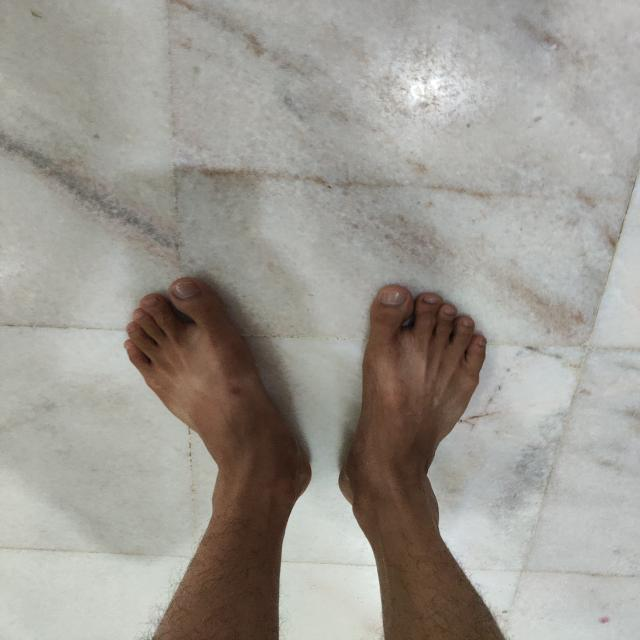No_Shoes: (117, 250, 301, 514), (325, 255, 510, 509)
